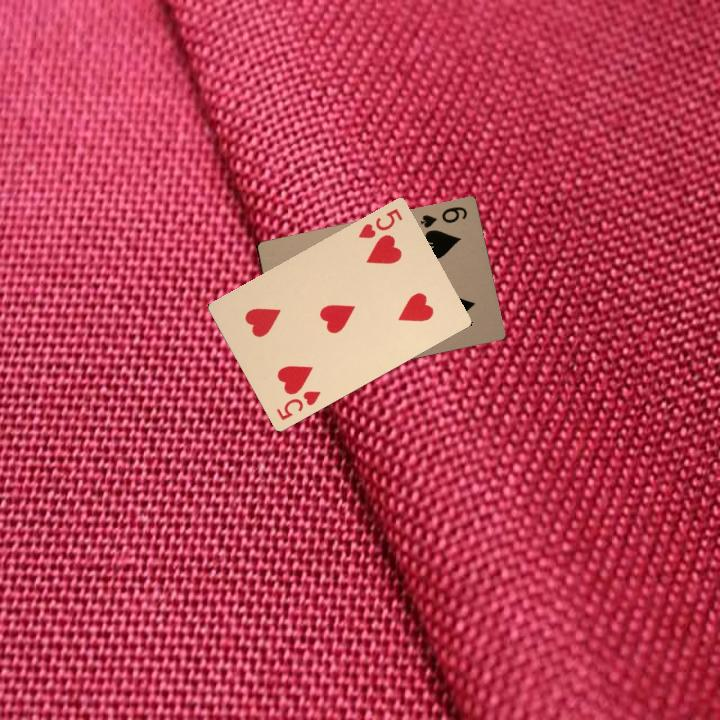5h: (354, 204, 405, 241), (272, 387, 323, 423)
6s: (417, 203, 470, 230)
